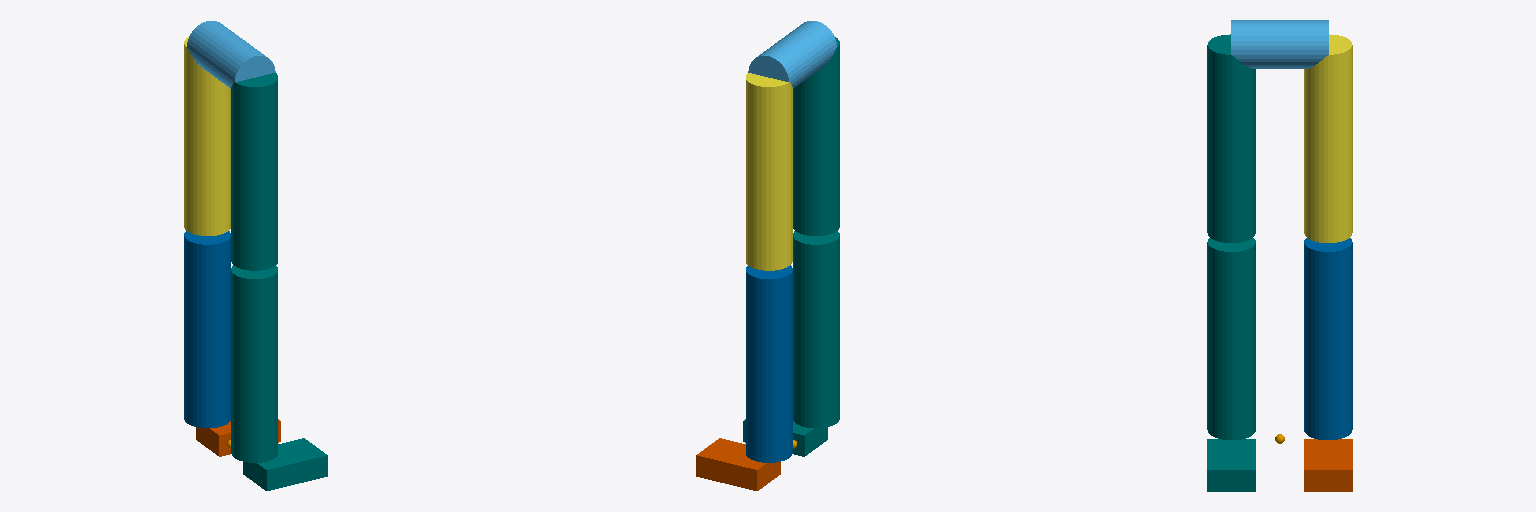
robot.urdf — human:
<?xml version="1.0"?>
<robot name="human">

  <link name="base_link">
    <visual>
      <geometry>
        <sphere radius="0.01"/>
      </geometry>
    </visual>
  </link>

  <link name="hip">
    <visual>
      <geometry>  
        <cylinder length="0.204" radius="0.05"/>
     </geometry>
      <origin rpy="1.57075 0 0" xyz="0 0 0" />
    </visual>
  </link>

  <link name="lower_spine"/>
  <joint name="hip_to_lower_spine" type="continuous">
    <parent link="hip"/>
    <child link="lower_spine"/>
  </joint> 

  <link name="middle_spine"/>
  <joint name="lower_spine_to_middle_spine" type="continuous">
    <parent link="lower_spine"/>
    <child link="middle_spine"/>
  </joint> 

  <link name="chest"/>  
  <joint name="middle_spine_to_chest" type="continuous">
    <parent link="middle_spine"/>
    <child link="chest"/>
  </joint> 

  <link name="neck"/>  
  <joint name="chest_to_neck" type="continuous">
    <parent link="chest"/>
    <child link="neck"/>
  </joint> 

 <link name="head"/>  
  <joint name="neck_to_head" type="continuous">
    <parent link="neck"/>
    <child link="head"/>
  </joint> 

 
<!-- -->
 <link name="left_clavicle"/>  
  <joint name="chest_to_left_clavicle" type="continuous">
    <parent link="chest"/>
    <child link="left_clavicle"/>
  </joint> 
  
 <link name="left_shoulder"/>  
  <joint name="left_clavicle_to_left_shoulder" type="continuous">
    <parent link="left_clavicle"/>
    <child link="left_shoulder"/>
  </joint> 
 
 <link name="left_forearm"/>  
  <joint name="left_shoulder_to_left_forearm" type="continuous">
    <parent link="left_shoulder"/>
    <child link="left_forearm"/>
  </joint>

 <link name="left_hand"/>  
  <joint name="left_forearm_to_left_hand" type="continuous">
    <parent link="left_forearm"/>
    <child link="left_hand"/>
  </joint>  
<!-- -->
 <link name="right_clavicle"/>  
  <joint name="chest_to_right_clavicle" type="continuous">
    <parent link="chest"/>
    <child link="right_clavicle"/>
  </joint> 
  
 <link name="right_shoulder"/>  
  <joint name="right_clavicle_to_right_shoulder" type="continuous">
    <parent link="right_clavicle"/>
    <child link="right_shoulder"/>
  </joint> 
 
 <link name="right_forearm"/>  
  <joint name="right_shoulder_to_right_forearm" type="continuous">
    <parent link="right_shoulder"/>
    <child link="right_forearm"/>
  </joint>

 <link name="right_hand"/>  
  <joint name="right_forearm_to_right_hand" type="continuous">
    <parent link="right_forearm"/>
    <child link="right_hand"/>
  </joint>

<!-- -->

<!-- start of right leg geometry-->
  <link name="right_tigh">
    <visual>
      <geometry>
        <cylinder length="0.43" radius="0.05"/>
      </geometry>
    <material name="teal">
      <color rgba="0 .5 .5 1"/>
    </material>
      <origin rpy="0 0 0" xyz="0 0 -0.215"/>    
  </visual>
  </link>

  <link name="right_leg">
    <visual>
      <geometry>
        <cylinder length="0.43" radius="0.05"/>
      </geometry>
      <material name="teal"/>
      <origin rpy="0 0 0" xyz="0 0 -0.215"/>    
   </visual>
  </link>

  <link name="right_foot">
    <visual>
      <geometry>
        <box size="0.15 0.1 0.05"/>
      </geometry>
      <material name="teal"/>
      <origin rpy="0 0 0" xyz="0.075 0 -0.025"/>    
   </visual>
  </link>

 <link name="right_foot_toe"/> 


 <joint name="right_foot_to_right_foot_toe" type="continuous">
    <parent link="right_foot"/>
    <child link="right_foot_toe"/>
    <origin xyz="0 0 -0.45"/>
  </joint> 

 
	

<!-- end of right leg geometry -->
<!-- start of left leg geometry -->
  <link name="left_tigh">
    <visual>
      <geometry>
        <cylinder length="0.43" radius="0.05"/>
      </geometry>
      <origin rpy="0 0 0" xyz="0 0 -0.215"/>    
  </visual>
  </link>

  <link name="left_leg">
    <visual>
      <geometry>
        <cylinder length="0.43" radius="0.05"/>
      </geometry>
      <origin rpy="0 0 0" xyz="0 0 -0.215"/>    
   </visual>
  </link>

  <link name="left_foot">
    <visual>
      <geometry>
        <box size="0.15 0.1 0.05"/>
      </geometry>
      <origin rpy="0 0 0" xyz="0.075 0 -0.025"/>    
   </visual>
  </link>

  <link name="left_foot_toe"/>

  <joint name="left_foot_to_left_foot_toe" type="continuous">
    <parent link="left_foot"/>
    <child link="left_foot_toe"/>
    <origin xyz="0 0 -0.45"/>
  </joint> 

  
  

  <!--link name="left_toe"/>
  <link name="left_toe_end"/-->
    
  
<!-- end of left leg geometry -->

<!-- start of abs -->


  <joint name="base_to_hip" type="continuous">
    <parent link="base_link" />
    <child link="hip" />
    <origin xyz="0 0 0.90"/>
  </joint>
  <!-- right leg joints -->
  
<joint name="hip_to_right_tigh" type="continuous">
	<parent link="hip"/>
    <child link="right_tigh"/>
    <origin xyz="0 -0.1 0"/>
  </joint>





  <joint name="right_tigh_to_right_leg" type="continuous">
    <parent link="right_tigh" />
    <child link="right_leg"/>
    <origin xyz="0 0 -0.45"/>
   </joint>   

  <joint name="right_leg_to_foot" type="continuous">
    <parent link="right_leg"/>
    <child link="right_foot"/>
    <origin xyz="0 0 -0.45"/>
  </joint> 



  <!-- left leg joints -->
   <joint name="hip_to_left_tigh" type="continuous">
    <parent link="hip"/>
    <child link="left_tigh"/>
    <origin xyz="0 0.1 0"/>
  </joint>

  <joint name="left_tigh_to_left_leg" type="continuous">
    <parent link="left_tigh" />
    <child link="left_leg"/>
    <origin xyz="0 0 -0.45"/>
   </joint>   

  <joint name="left_leg_to_foot" type="continuous">
    <parent link="left_leg"/>
    <child link="left_foot"/>
    <origin xyz="0 0 -0.45"/>
  </joint> 

  

 
</robot>

--- Render facts (derived) ---
3 views of the same robot in one strip: view 1: azimuth 30°, elevation 25°; view 2: azimuth 150°, elevation 25°; view 3: azimuth 270°, elevation 25° (orthographic).
Robot: human — 23 links, 22 joints (22 continuous); root link base_link; default pose: all joints at 0.
Visible links, largest first — view 1: right_leg, left_leg, right_tigh, left_tigh, hip, right_foot, left_foot; view 2: left_leg, right_leg, left_tigh, right_tigh, hip, left_foot, right_foot; view 3: right_leg, left_leg, right_tigh, left_tigh, hip, right_foot, left_foot.
Boxes of the visible links, left/top/right/bottom form: right_leg: left=231, top=265, right=277, bottom=462; left_leg: left=184, top=231, right=230, bottom=427; right_tigh: left=231, top=73, right=277, bottom=270; left_tigh: left=184, top=37, right=230, bottom=235; hip: left=187, top=21, right=275, bottom=88; right_foot: left=243, top=438, right=327, bottom=490; left_foot: left=196, top=419, right=280, bottom=456; left_leg: left=746, top=265, right=792, bottom=462; right_leg: left=793, top=231, right=839, bottom=427; left_tigh: left=746, top=73, right=792, bottom=270; right_tigh: left=793, top=37, right=839, bottom=235; hip: left=748, top=21, right=836, bottom=88; left_foot: left=696, top=438, right=780, bottom=490; right_foot: left=743, top=419, right=827, bottom=456; right_leg: left=1207, top=238, right=1255, bottom=439; left_leg: left=1304, top=238, right=1352, bottom=439; right_tigh: left=1207, top=34, right=1255, bottom=242; left_tigh: left=1304, top=34, right=1352, bottom=242; hip: left=1231, top=20, right=1328, bottom=68; right_foot: left=1207, top=439, right=1255, bottom=491; left_foot: left=1304, top=439, right=1352, bottom=491.
Size in the robot's own frame: 0.2 by 0.3 by 1 metres.
Geometry: primitives only (box / cylinder / sphere), no mesh files.
